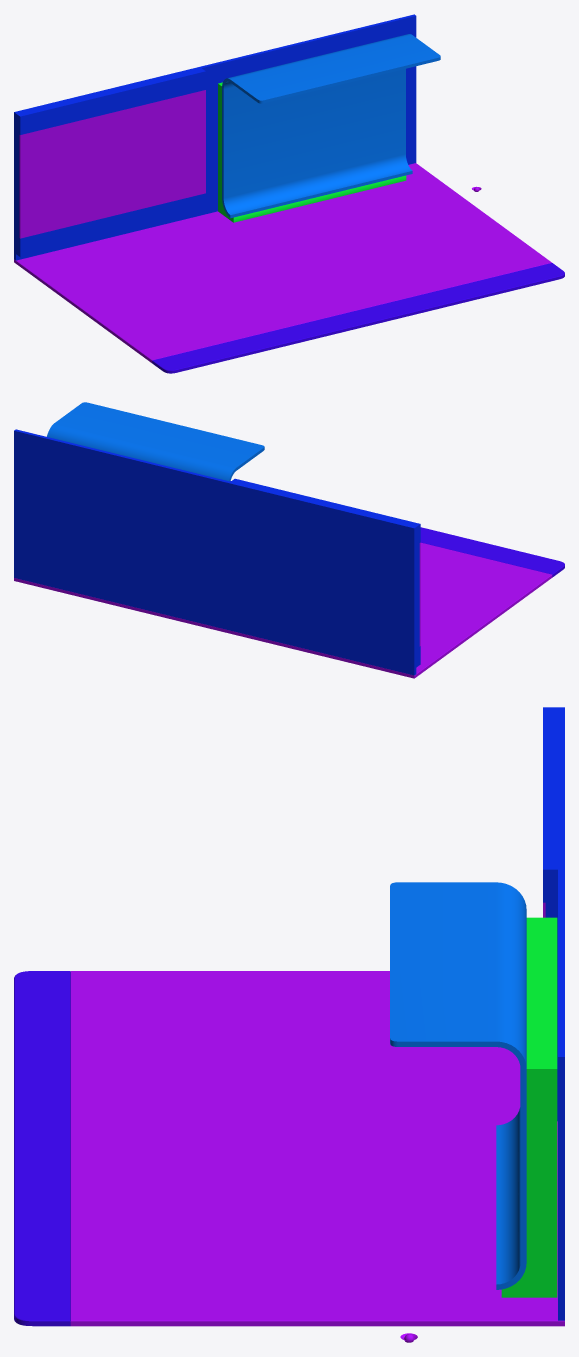
The model's file is Exhibition.FBX.
3 renders of one model, top to bottom at view 1: azimuth 30°, elevation 25°; view 2: azimuth 150°, elevation 25°; view 3: azimuth 270°, elevation 25°, orthographic. The views are drawn at different scales.
Parts seen in each view (by area): view 1: Exhibition, Exhibition_Screen; view 2: Exhibition; view 3: Exhibition.
Part boxes in pixels (box(x1,y1,x2,y2)): Exhibition: box(14, 14, 564, 373); Exhibition_Screen: box(19, 90, 205, 238); Exhibition: box(14, 402, 564, 678); Exhibition: box(14, 707, 564, 1326).
Bounding box in the file's own units: 1441 × 489 × 907.
